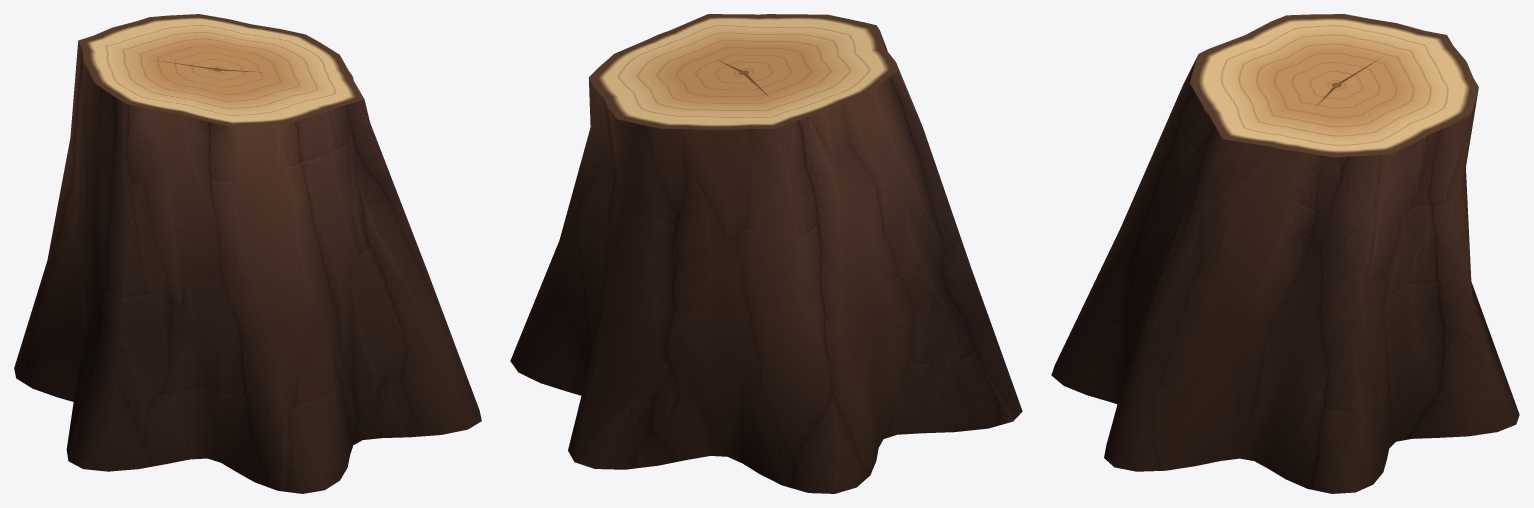
Rendered from Stump_Pine_5.gltf.
The picture shows the model from 3 angles, left to right: view 1: azimuth 30°, elevation 25°; view 2: azimuth 150°, elevation 25°; view 3: azimuth 270°, elevation 25°; orthographic projection. The views are drawn at different scales.
Parts seen in each view (by area): view 1: Stump_Pine_5; view 2: Stump_Pine_5; view 3: Stump_Pine_5.
Part boxes in pixels (<box>): Stump_Pine_5: <box>14,14,481,493</box>; Stump_Pine_5: <box>510,14,1022,493</box>; Stump_Pine_5: <box>1051,14,1519,493</box>.
Size of the model in its own units: 0.9478 by 0.7156 by 0.9478.
Materials: 2 (2 with a texture image).
